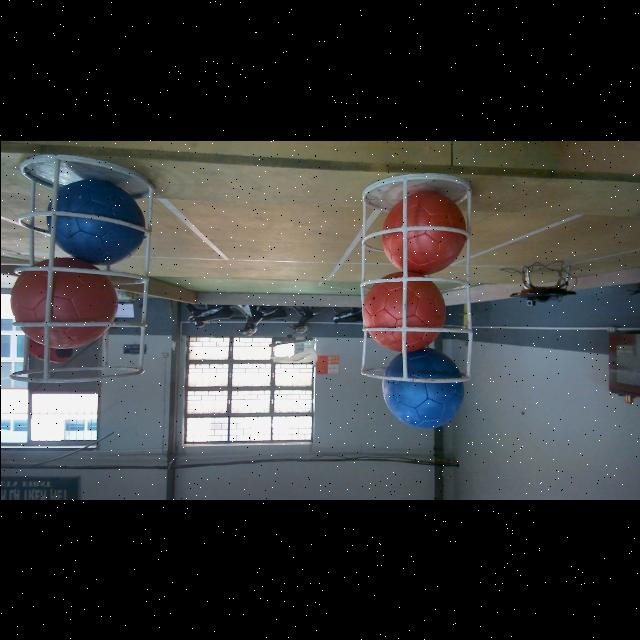B: (48, 176, 146, 264), (382, 347, 476, 431)
R: (9, 257, 117, 349), (376, 192, 472, 276), (362, 269, 446, 351)
